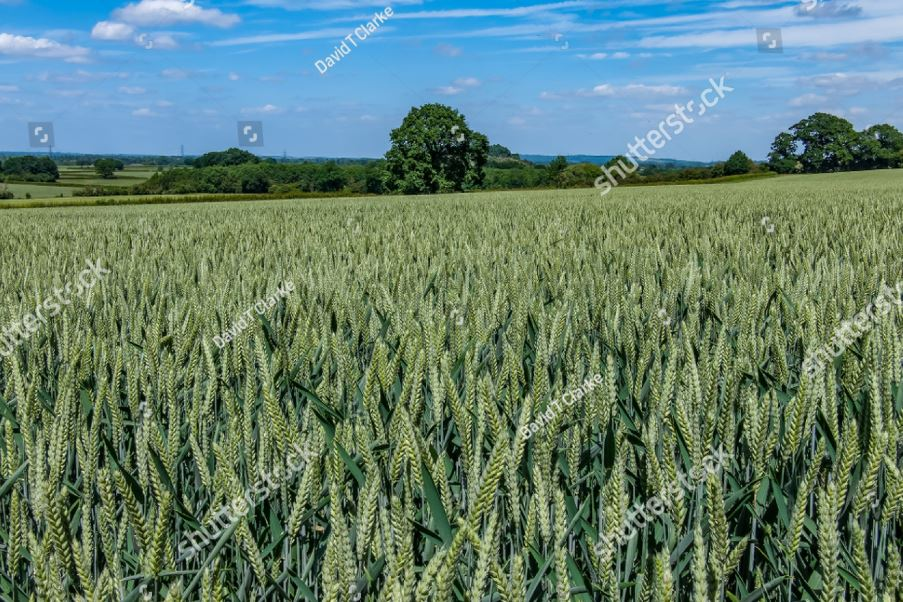Wheat: (54, 333, 812, 567)
